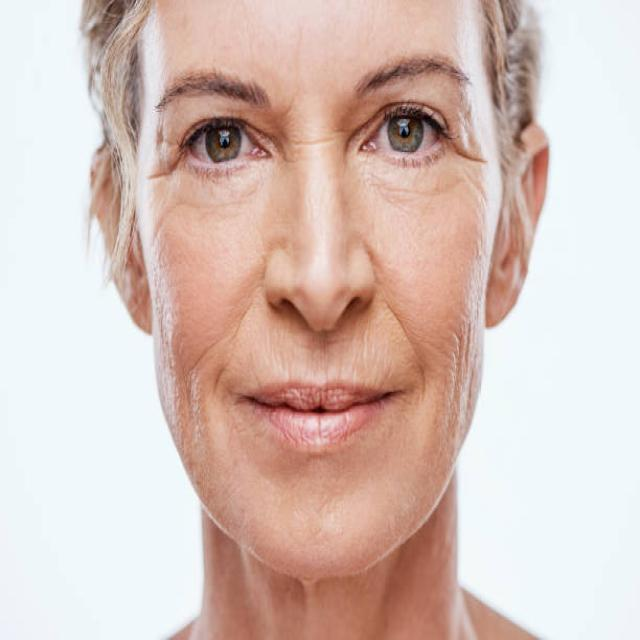Dry-Skin: (352, 175, 509, 421), (150, 172, 252, 423)
